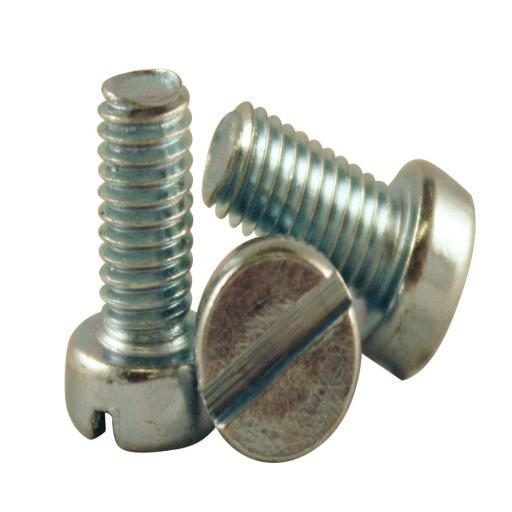Slotted: (196, 235, 360, 468)
